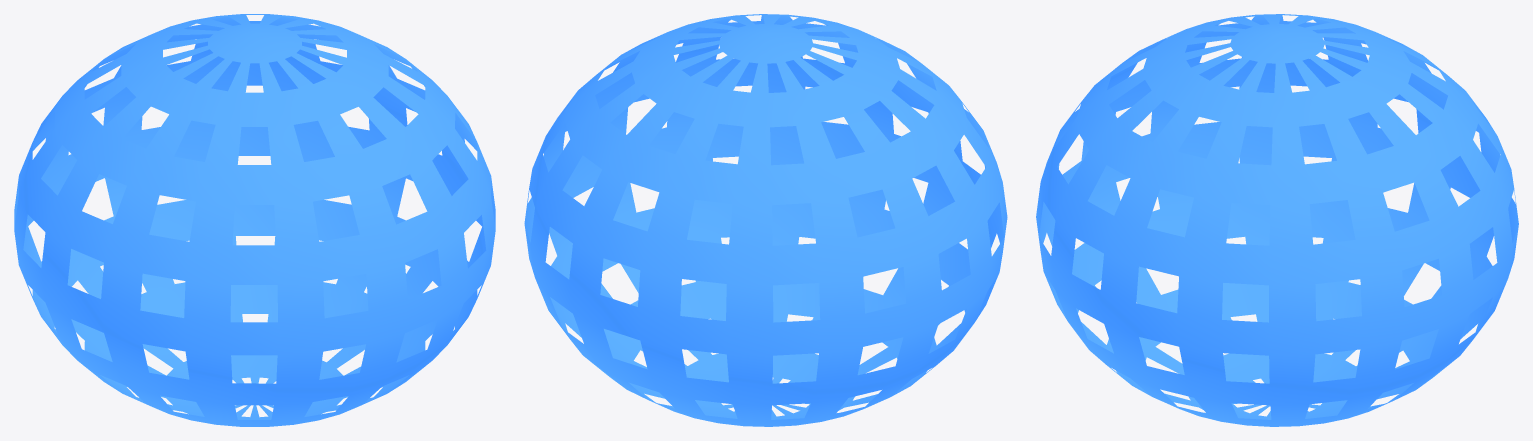
File: NewWebCiroOBJ.gltf
3 renders of one model, left to right at view 1: azimuth 30°, elevation 25°; view 2: azimuth 150°, elevation 25°; view 3: azimuth 270°, elevation 25°, orthographic.
Visible parts, largest first — view 1: Sfera; view 2: Sfera; view 3: Sfera.
Boxes of the visible parts, x1,y1,x2,y2 form: Sfera: (14, 14, 495, 426); Sfera: (524, 14, 1007, 426); Sfera: (1036, 14, 1518, 426).
Bounding box in the file's own units: 0.0402 × 0.0337 × 0.0402.
